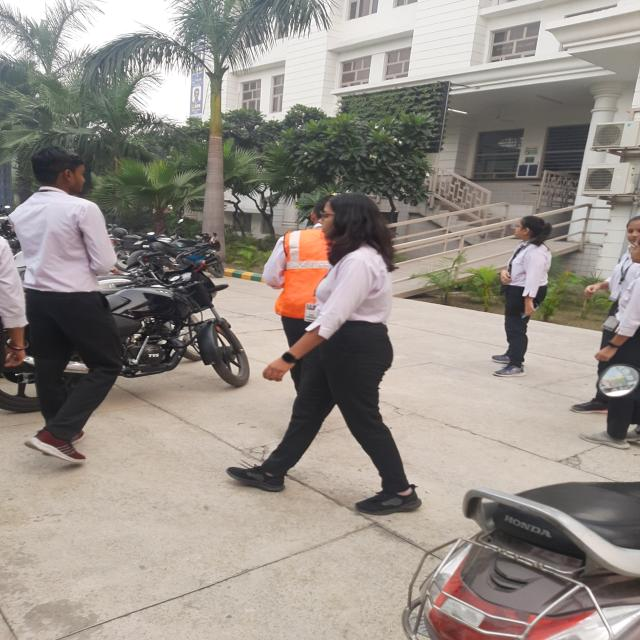unsafe: (252, 199, 411, 516), (14, 144, 130, 475), (500, 212, 548, 372)
